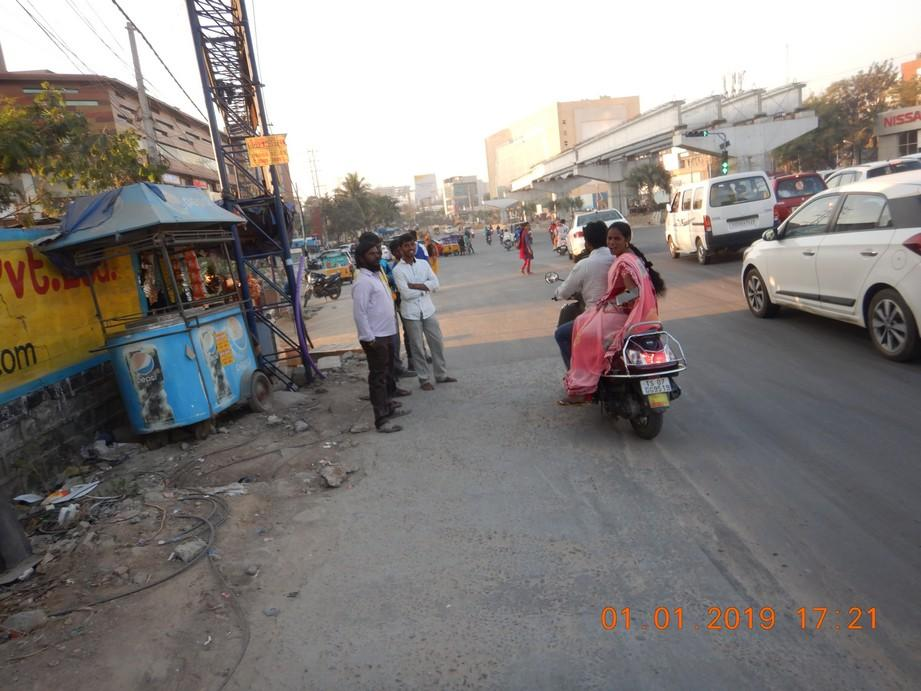plate: (639, 375, 675, 396)
